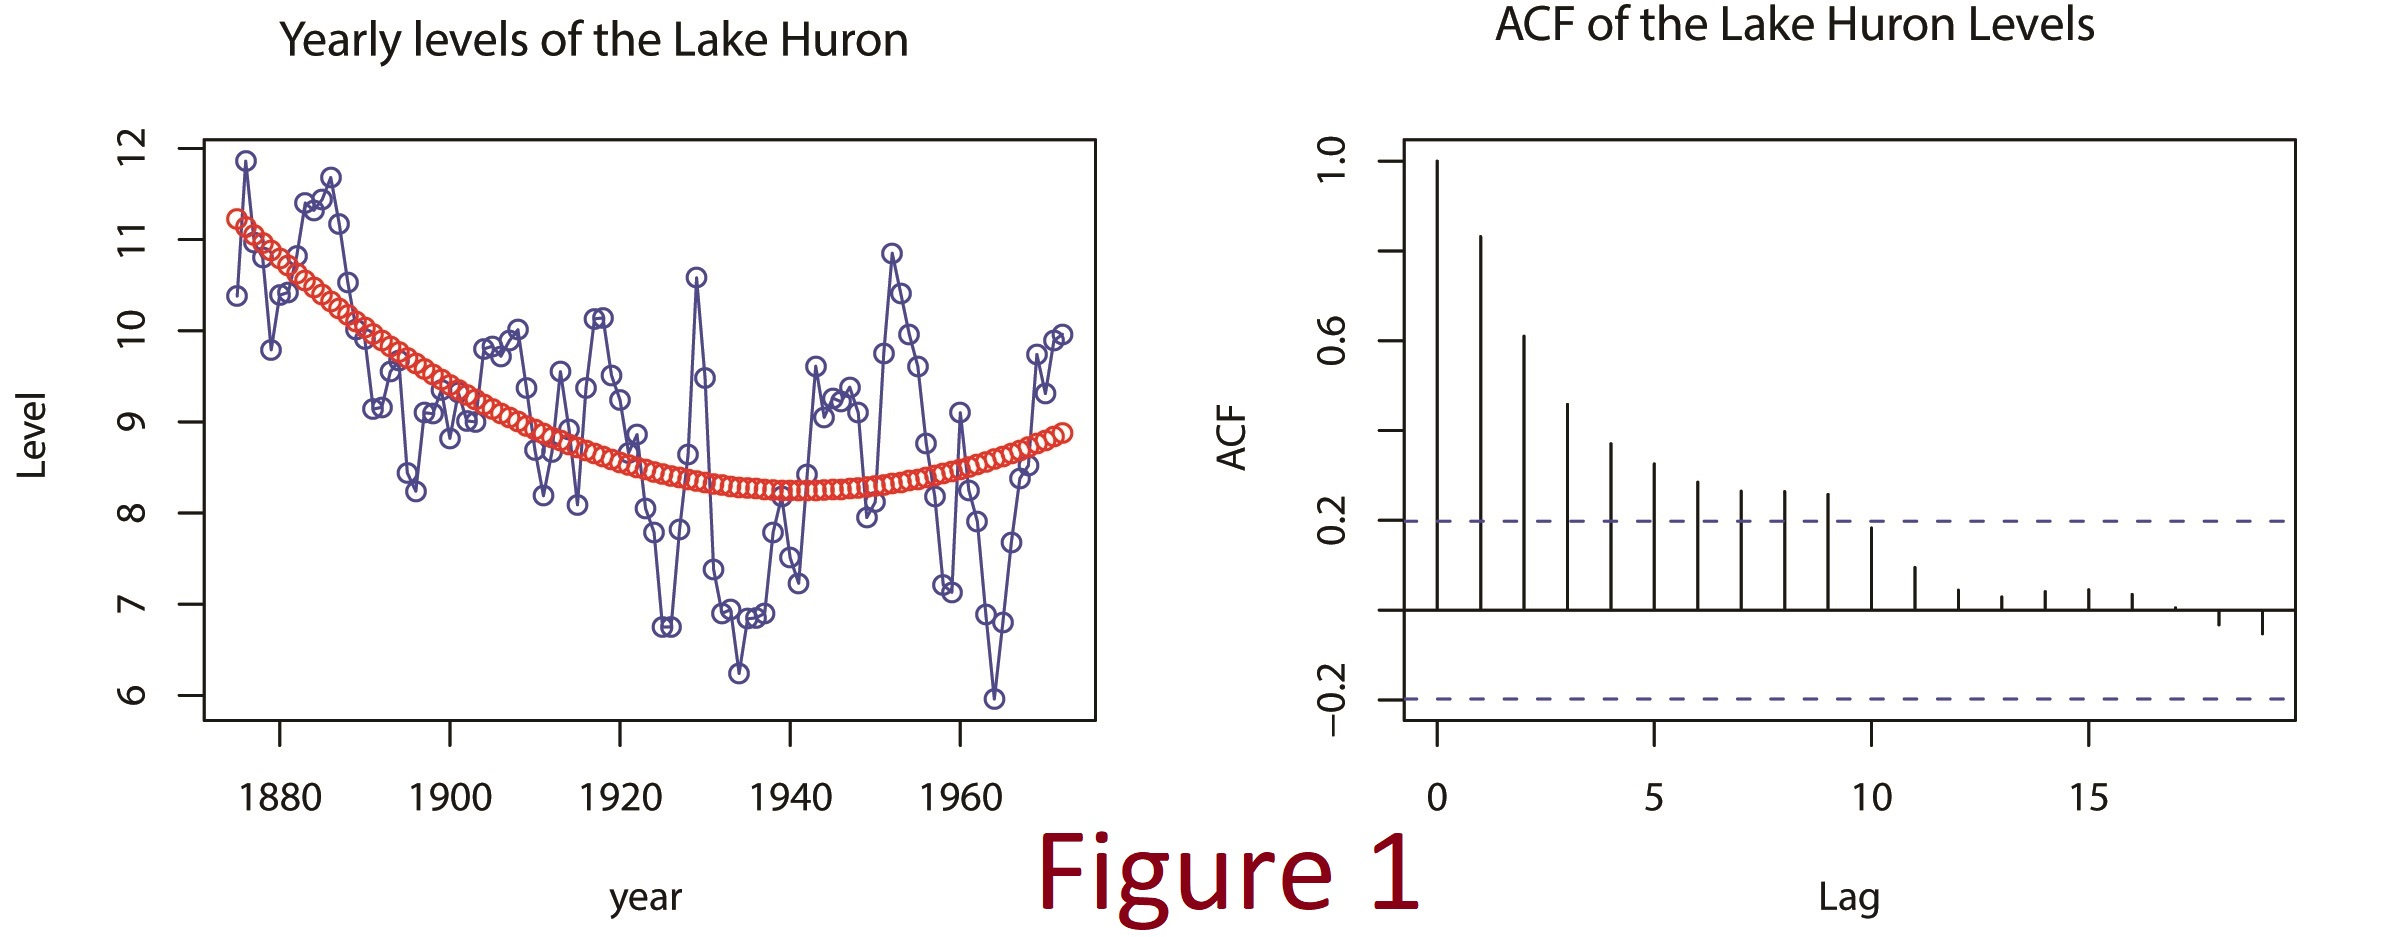

What the dashboard file says about the page in this screenshot:
{"tool":"tableau","page":{"name":"Q1A","canvas":[1654,1169],"ordinal":0},"visuals":[{"type":"worksheet","title":"Sheet 1","mark":"Automatic","rows":["Calculation_3834744734027366400","category","Calculation_3834744734373654546"],"box":[8,8,1638,1153]},{"type":"text","box":[14,216,108,42]}]}

Visuals, with their boxes on the page's 1654x1169 design canvas (x1, y1, x2, y2). These are canvas units, not pixel positions in the 2400x937 screenshot, which may show the page scaled, cropped or inside an application window:
"Sheet 1" worksheet: [8,8,1646,1161]
text: [14,216,122,258]
